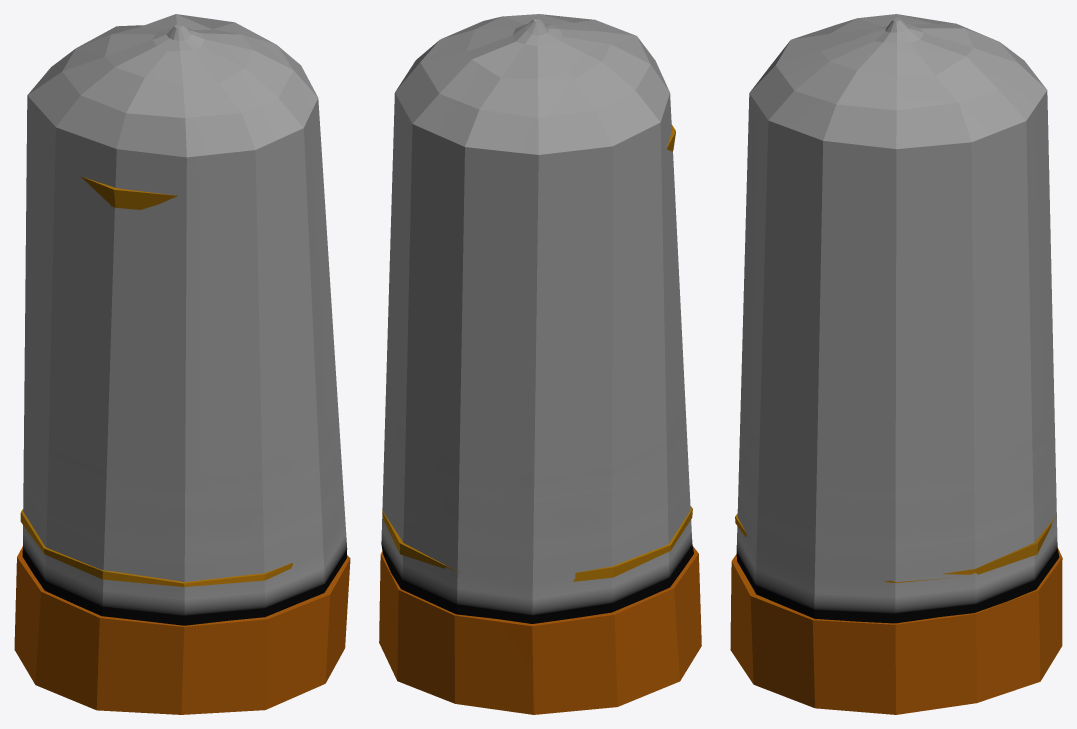
File: SteamPunk_Number_07.glb
The picture shows the model from 3 angles, left to right: view 1: azimuth 30°, elevation 25°; view 2: azimuth 150°, elevation 25°; view 3: azimuth 270°, elevation 25°; orthographic projection.
Visible parts, largest first — view 1: SteamPank_Number_07; view 2: SteamPank_Number_07; view 3: SteamPank_Number_07.
Part boxes in pixels (box(x1,y1,x2,y2)): SteamPank_Number_07: box(14, 14, 350, 714); SteamPank_Number_07: box(379, 14, 701, 714); SteamPank_Number_07: box(730, 14, 1062, 714).
Size of what is drawn, in the model's own units: 0.4386 by 0.9235 by 0.4417.
2 materials, 2 textured.
